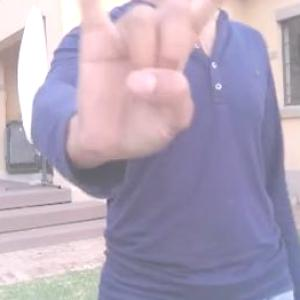takeoff-hand: (66, 0, 253, 153)
